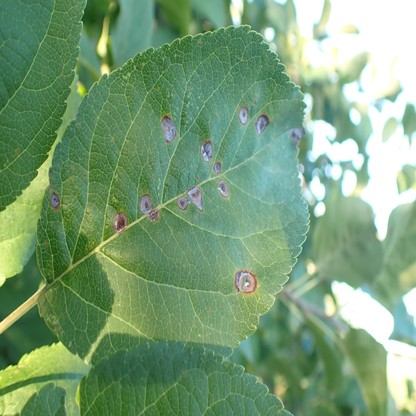frogeye_leaf_spot: (178, 186, 204, 213), (236, 269, 258, 294), (141, 194, 160, 221), (162, 117, 177, 142), (257, 114, 270, 136), (202, 140, 214, 162), (113, 212, 127, 230), (288, 129, 302, 146), (240, 107, 249, 125), (219, 181, 229, 197), (51, 193, 60, 208), (214, 162, 221, 173)
